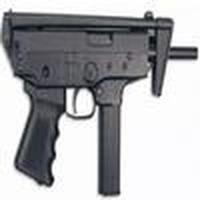gun: (1, 4, 200, 184)
